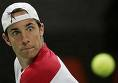tennis ball: (90, 52, 116, 79)
